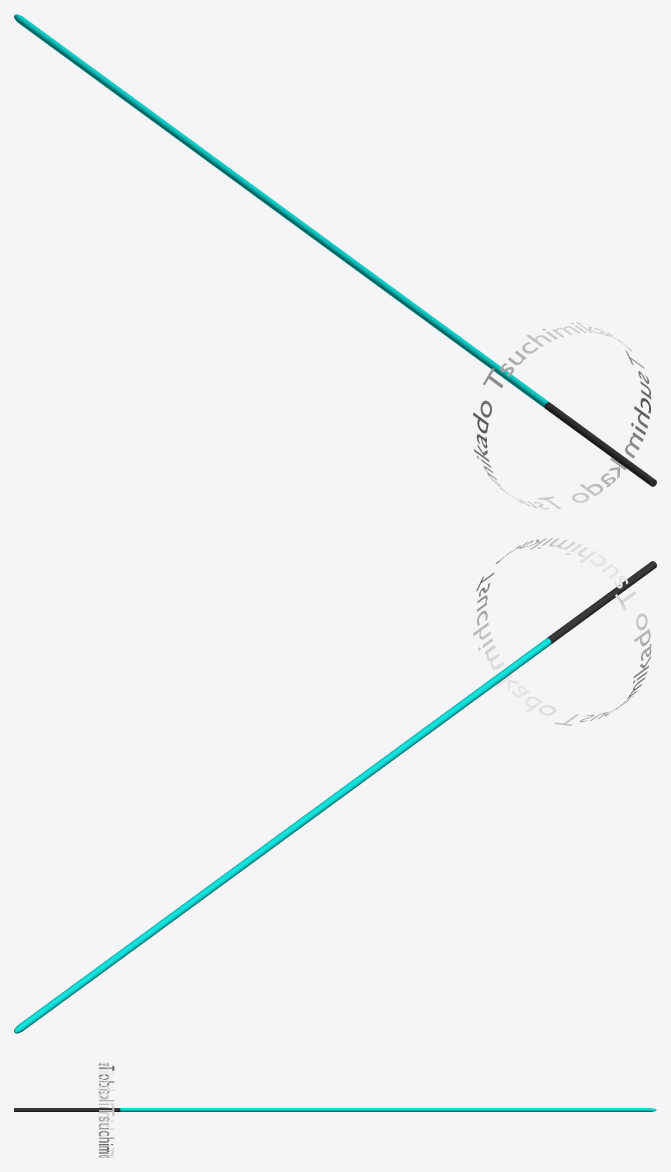
Rendered from tsuchimikado saber.fbx.
3 renders of one model, top to bottom at view 1: azimuth 30°, elevation 25°; view 2: azimuth 150°, elevation 25°; view 3: azimuth 270°, elevation 25°, orthographic. The views are drawn at different scales.
Visible parts, largest first — view 1: Saber; view 2: Saber; view 3: Saber.
Part boxes in pixels (x1=…): Saber: x1=14, y1=14, x2=656, y2=509; Saber: x1=14, y1=538, x2=656, y2=1033; Saber: x1=14, y1=1062, x2=656, y2=1157.
Size of the model in its own units: 17.99 by 18 by 121.
